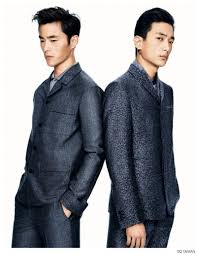asian_male: (33, 9, 86, 71)
